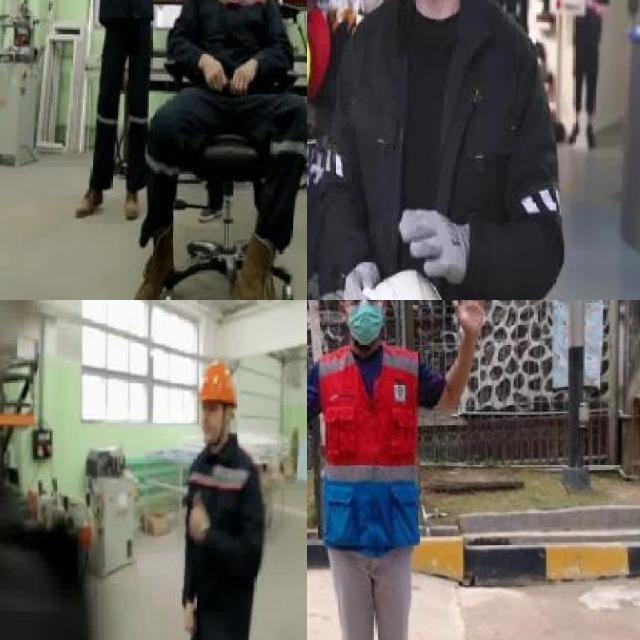apron: (398, 204, 470, 286), (341, 261, 379, 300)
